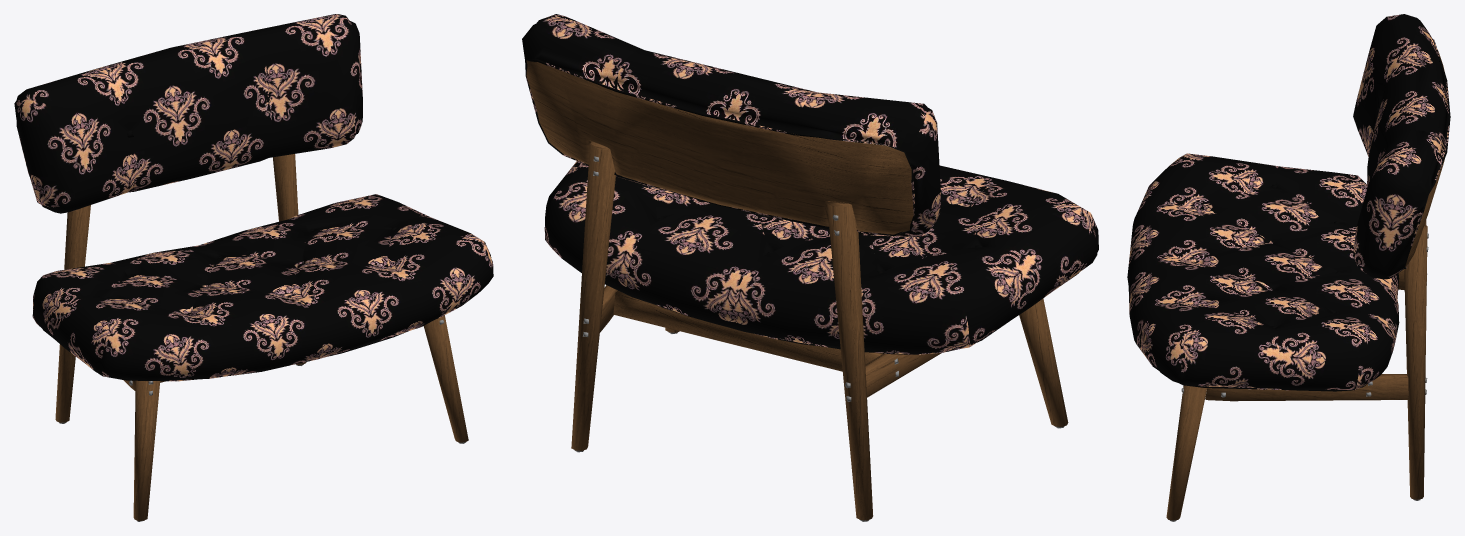
File: chair_damask.lod1.glb
3 renders of one model, left to right at view 1: azimuth 30°, elevation 25°; view 2: azimuth 150°, elevation 25°; view 3: azimuth 270°, elevation 25°, orthographic. The views are drawn at different scales.
Visible parts, largest first — view 1: oval-tufted-chair_back-fabric, oval-tufted-chair_legs-frame; view 2: oval-tufted-chair_back-fabric, oval-tufted-chair_legs-frame; view 3: oval-tufted-chair_back-fabric, oval-tufted-chair_legs-frame.
Part boxes in pixels (<box>): oval-tufted-chair_back-fabric: <box>14,14,493,381</box>; oval-tufted-chair_legs-frame: <box>55,154,468,520</box>; oval-tufted-chair_back-fabric: <box>522,14,1098,354</box>; oval-tufted-chair_legs-frame: <box>526,60,1068,520</box>; oval-tufted-chair_back-fabric: <box>1127,14,1450,391</box>; oval-tufted-chair_legs-frame: <box>1166,50,1444,520</box>.
Size of the model in its own units: 0.8286 by 0.6866 by 0.5716.
Materials: 4 (3 with a texture image).
